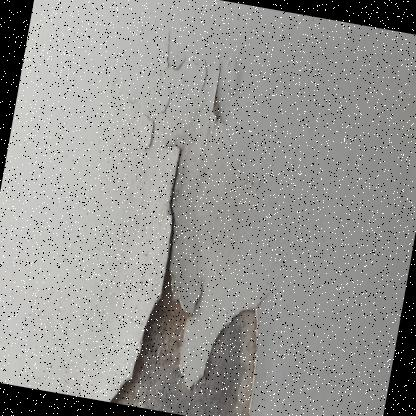Crack: (59, 0, 354, 415)
